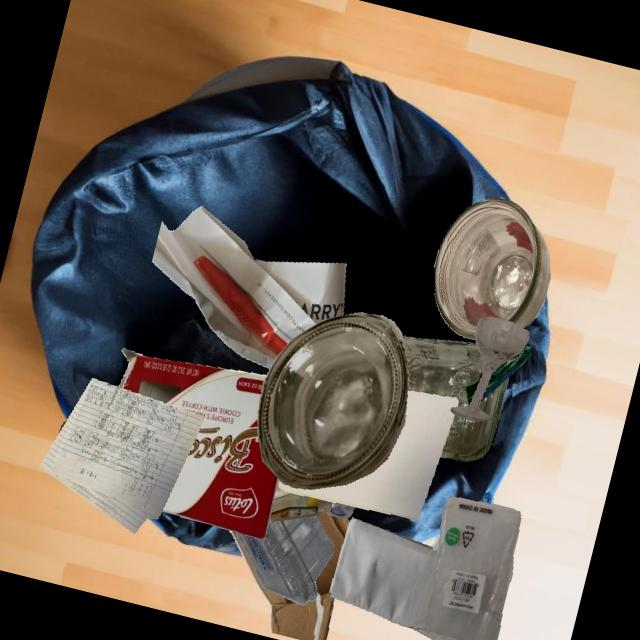biowaste: (479, 345, 531, 402)
cardboard: (118, 347, 277, 539), (227, 512, 349, 640)
glass: (257, 312, 408, 489), (434, 198, 550, 340), (450, 317, 529, 421), (439, 376, 509, 463), (401, 335, 482, 402), (268, 477, 331, 521), (58, 420, 67, 434)
paper: (152, 206, 346, 369), (39, 378, 203, 533), (278, 390, 458, 519), (329, 517, 461, 640)
plastic: (417, 497, 520, 640), (235, 515, 333, 605), (326, 501, 354, 518)
